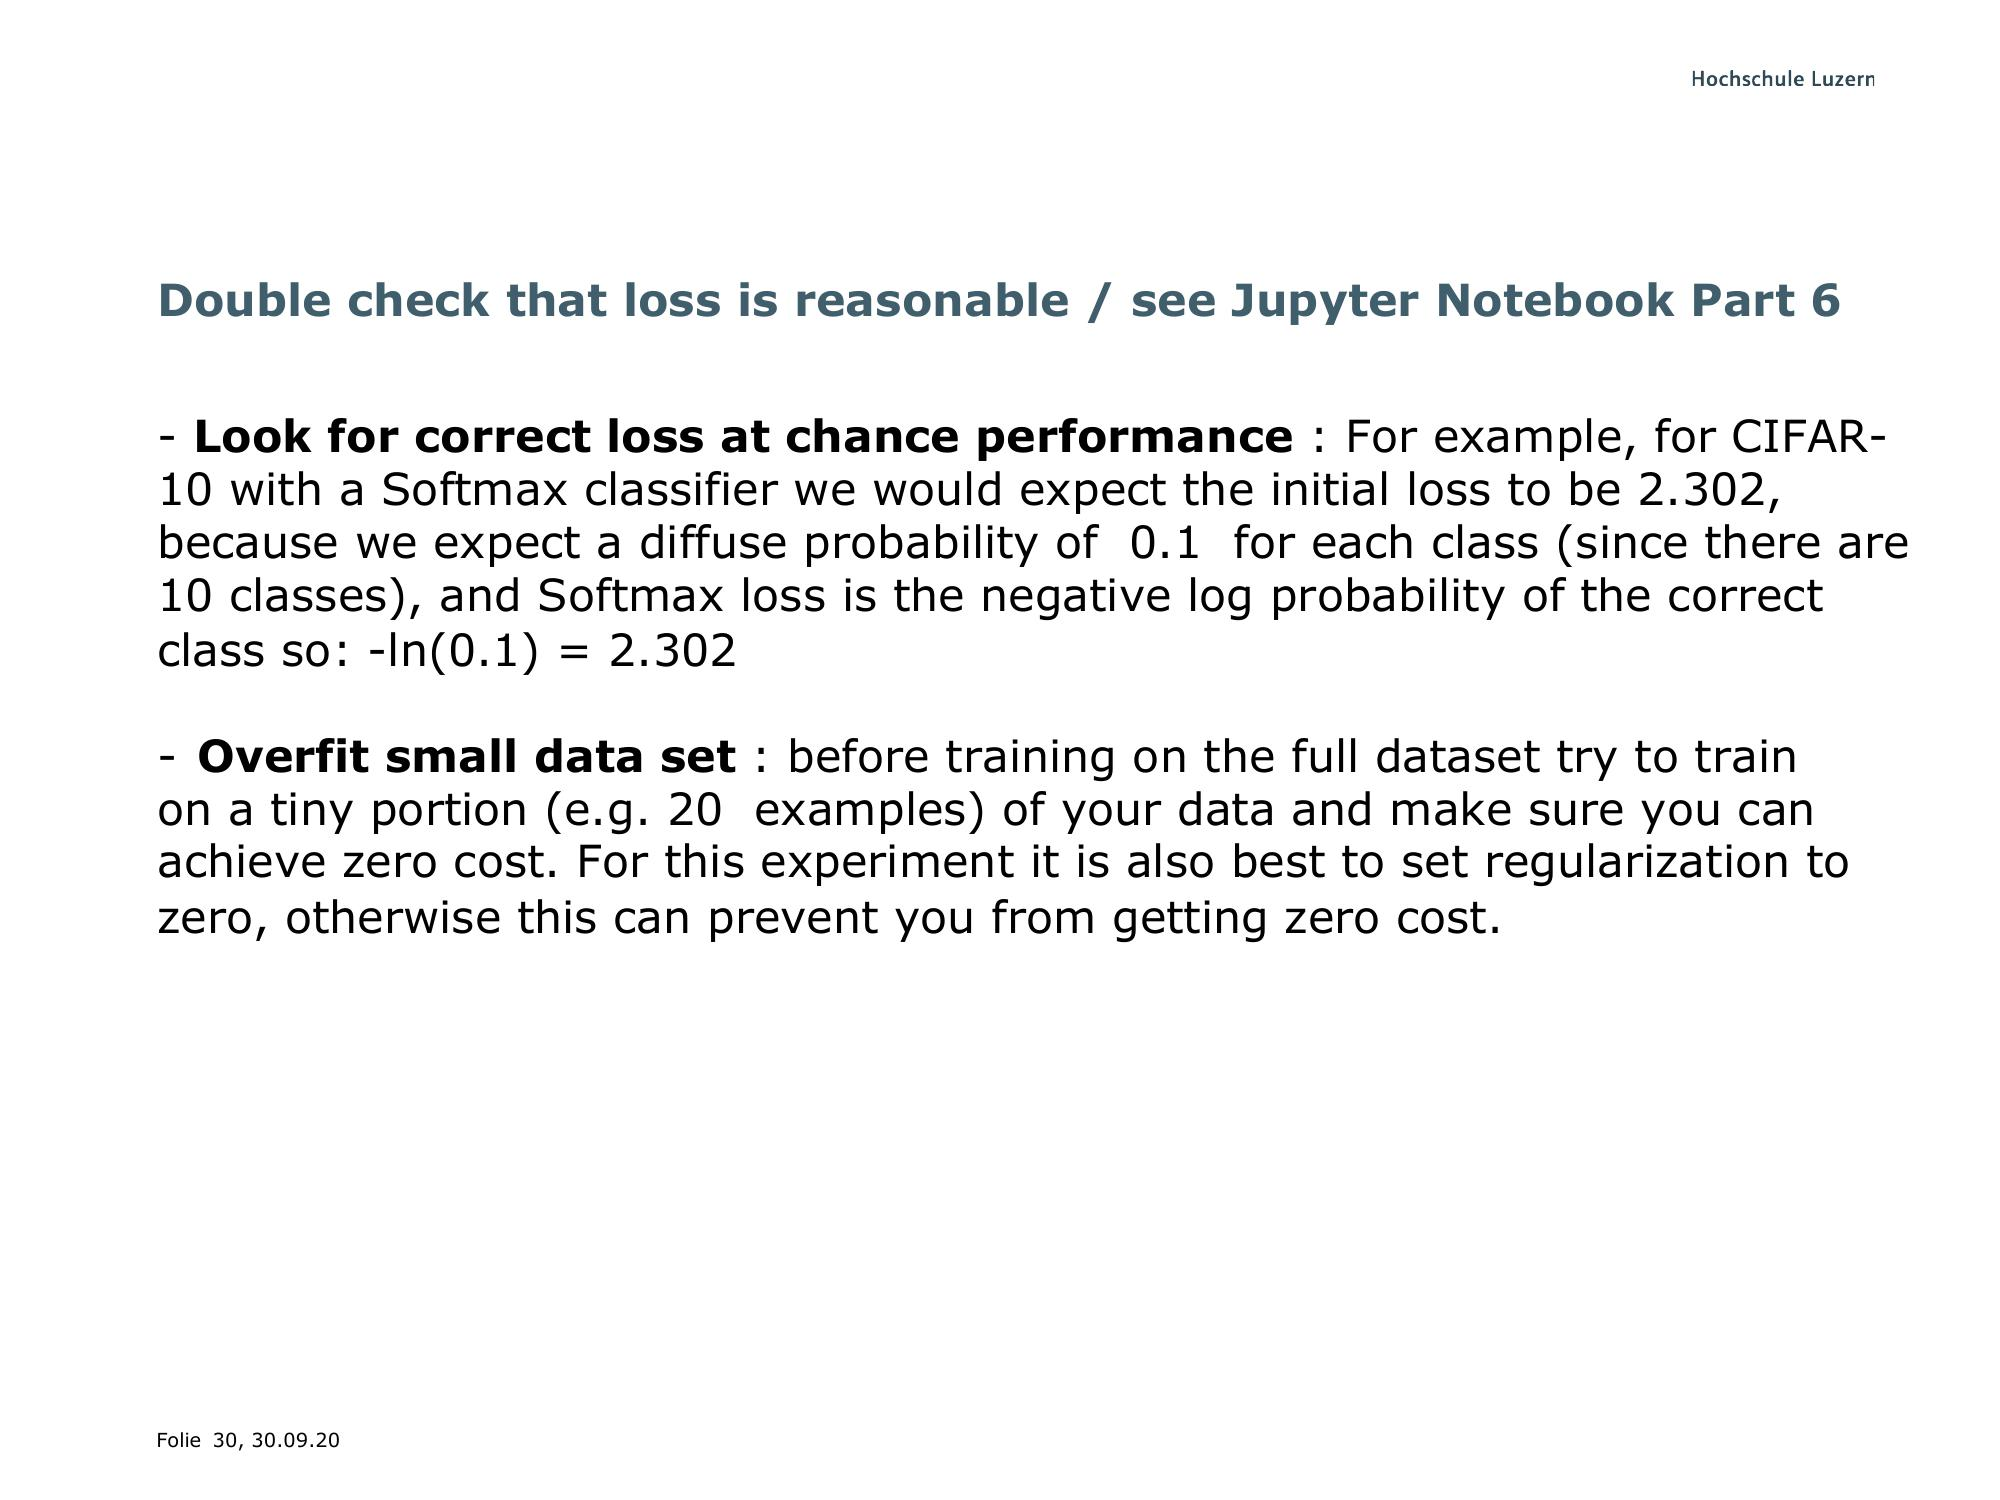Title: (153, 262, 1861, 342)
